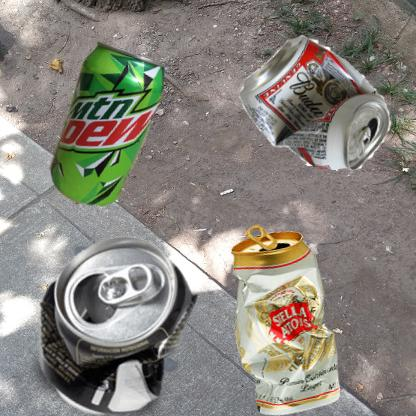lata: (10, 10, 226, 262), (10, 213, 229, 416), (213, 10, 416, 191), (213, 213, 364, 416)
